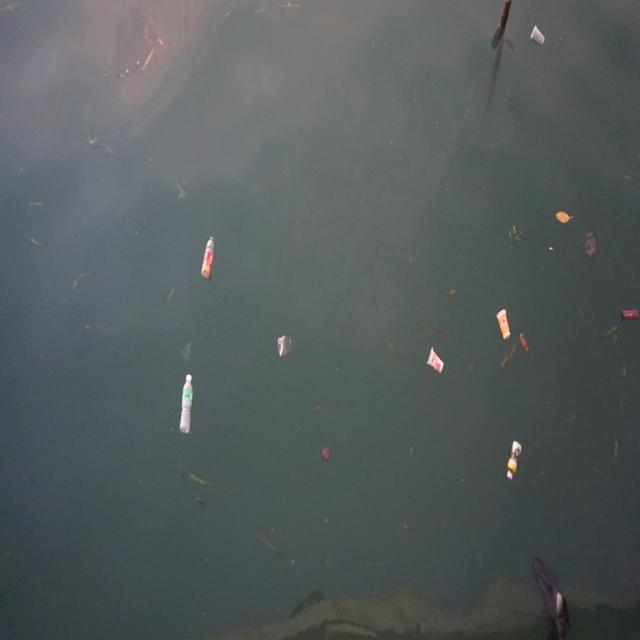Botol Plastik: (178, 373, 196, 442), (200, 230, 222, 285), (506, 437, 524, 485)
Bungkus Minuman: (495, 303, 517, 347), (274, 330, 299, 362), (426, 345, 447, 382), (529, 20, 548, 54)
